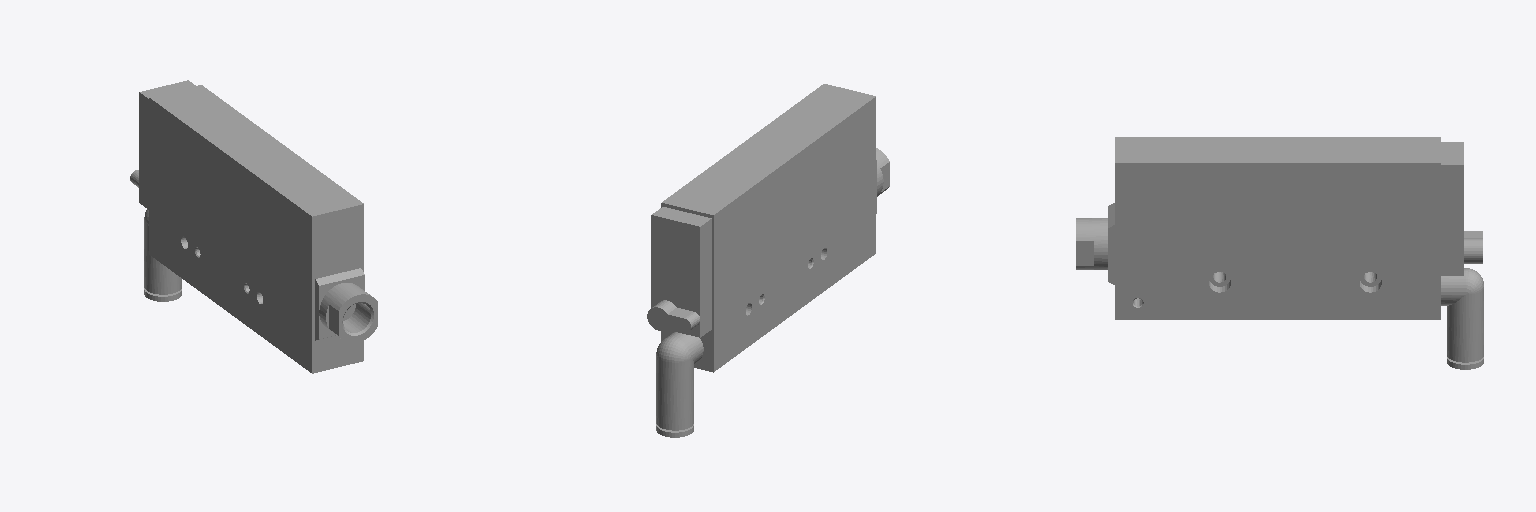
File: IZN10E-11P16.obj
The picture shows the model from 3 angles: view 1: azimuth 30°, elevation 25°; view 2: azimuth 150°, elevation 25°; view 3: azimuth 270°, elevation 25°; orthographic projection.
Parts seen in each view (by area): view 1: Solid1; view 2: Solid1; view 3: Solid1.
Boxes of the visible parts, x1,y1,x2,y2 form: Solid1: [130, 80, 377, 373]; Solid1: [647, 84, 889, 437]; Solid1: [1076, 137, 1483, 369].
Size of the model in its own units: 16 by 62 by 108.